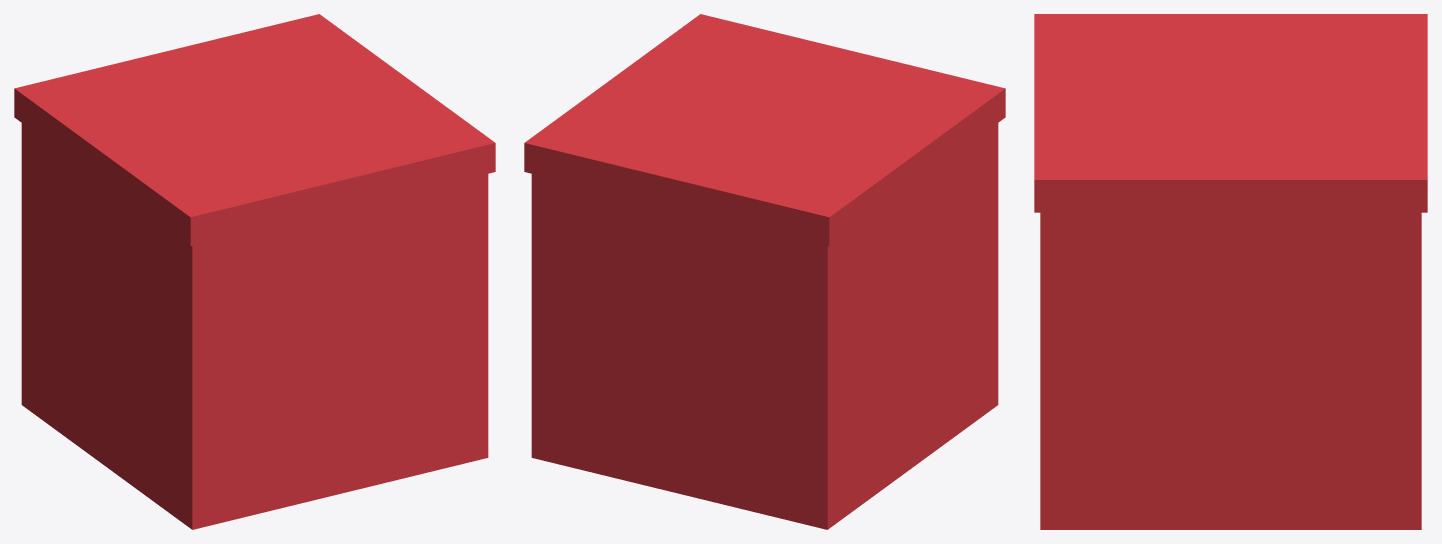
The picture shows the model from 3 angles, left to right: view 1: azimuth 30°, elevation 25°; view 2: azimuth 150°, elevation 25°; view 3: azimuth 270°, elevation 25°; orthographic projection. The views are drawn at different scales.
Parts seen in each view (by area): view 1: Low_Poly_Box_01, Low_Poly_Box_01_Lid; view 2: Low_Poly_Box_01, Low_Poly_Box_01_Lid; view 3: Low_Poly_Box_01, Low_Poly_Box_01_Lid.
Boxes of the visible parts, bbox=[...] form: Low_Poly_Box_01: bbox=[21, 123, 488, 529]; Low_Poly_Box_01_Lid: bbox=[14, 14, 495, 246]; Low_Poly_Box_01: bbox=[531, 123, 998, 529]; Low_Poly_Box_01_Lid: bbox=[524, 14, 1005, 246]; Low_Poly_Box_01: bbox=[1040, 212, 1421, 529]; Low_Poly_Box_01_Lid: bbox=[1034, 14, 1427, 212].
Size of the model in its own units: 61.85 by 61.16 by 61.85.
